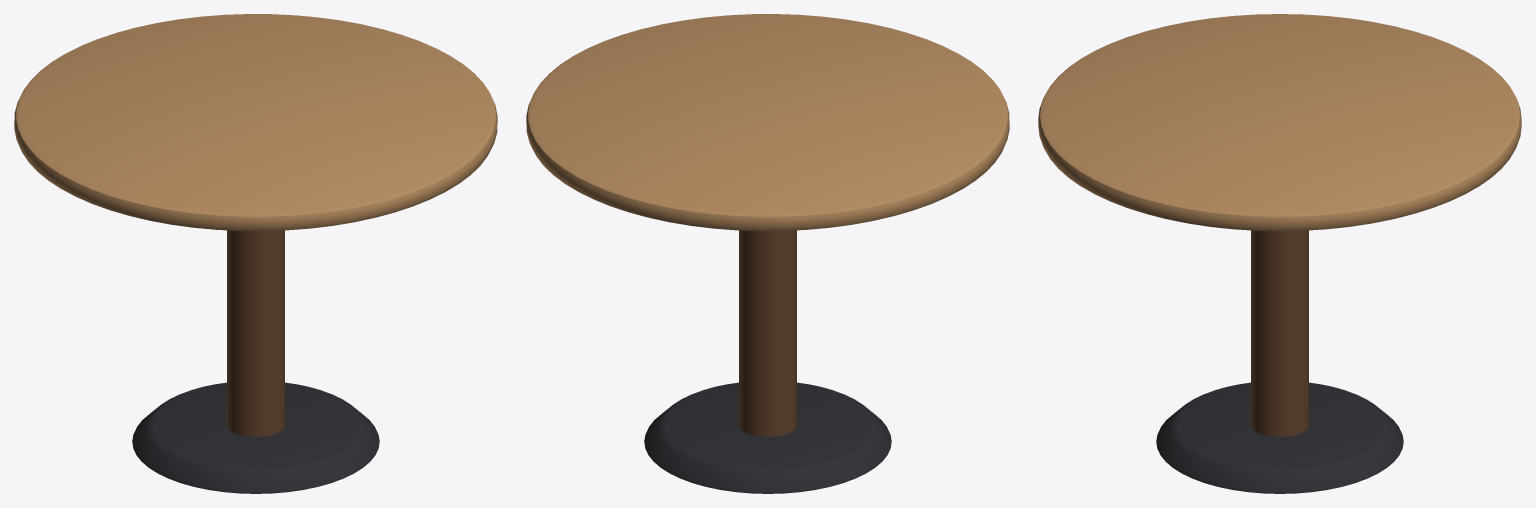
File: round_dining.glb
The picture shows the model from 3 angles, left to right: view 1: azimuth 30°, elevation 25°; view 2: azimuth 150°, elevation 25°; view 3: azimuth 270°, elevation 25°; orthographic projection.
Parts seen in each view (by area): view 1: cyl, cyl.002, cyl.001; view 2: cyl, cyl.002, cyl.001; view 3: cyl, cyl.002, cyl.001.
Part boxes in pixels (x1,y1,x2,y2): cyl: (14, 14, 497, 231); cyl.002: (132, 382, 379, 493); cyl.001: (227, 230, 284, 436); cyl: (526, 14, 1009, 231); cyl.002: (644, 382, 891, 493); cyl.001: (739, 230, 796, 436); cyl: (1038, 14, 1521, 231); cyl.002: (1156, 382, 1403, 493); cyl.001: (1251, 230, 1308, 436).
Bounding box in the file's own units: 100 × 75 × 100.
